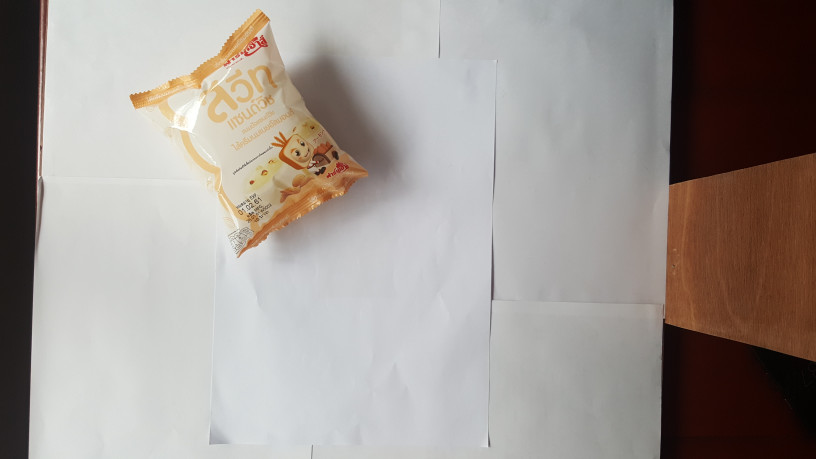farmhouse-sweetsandwich-almond: (124, 9, 368, 261)
